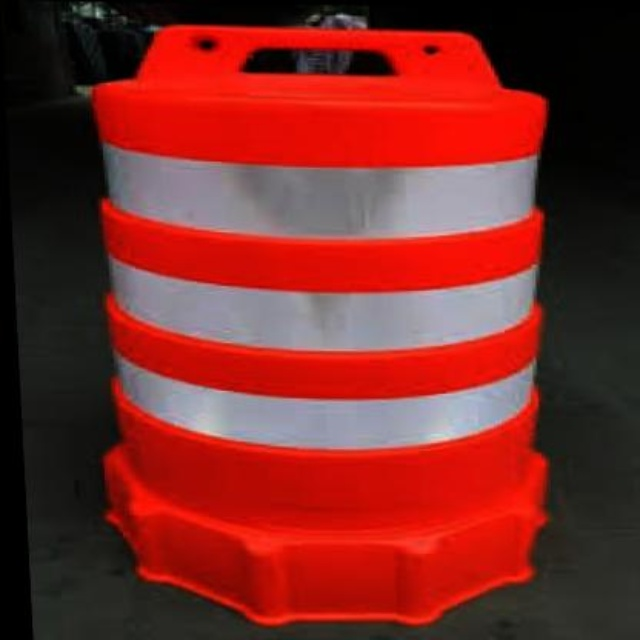obstacle: (71, 42, 552, 550)
